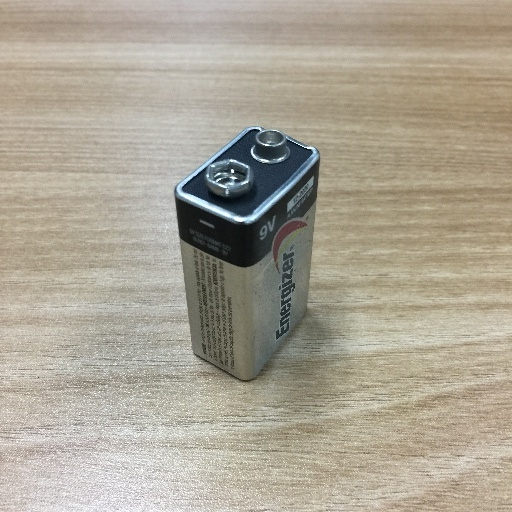Battery_3: (148, 106, 339, 385)
